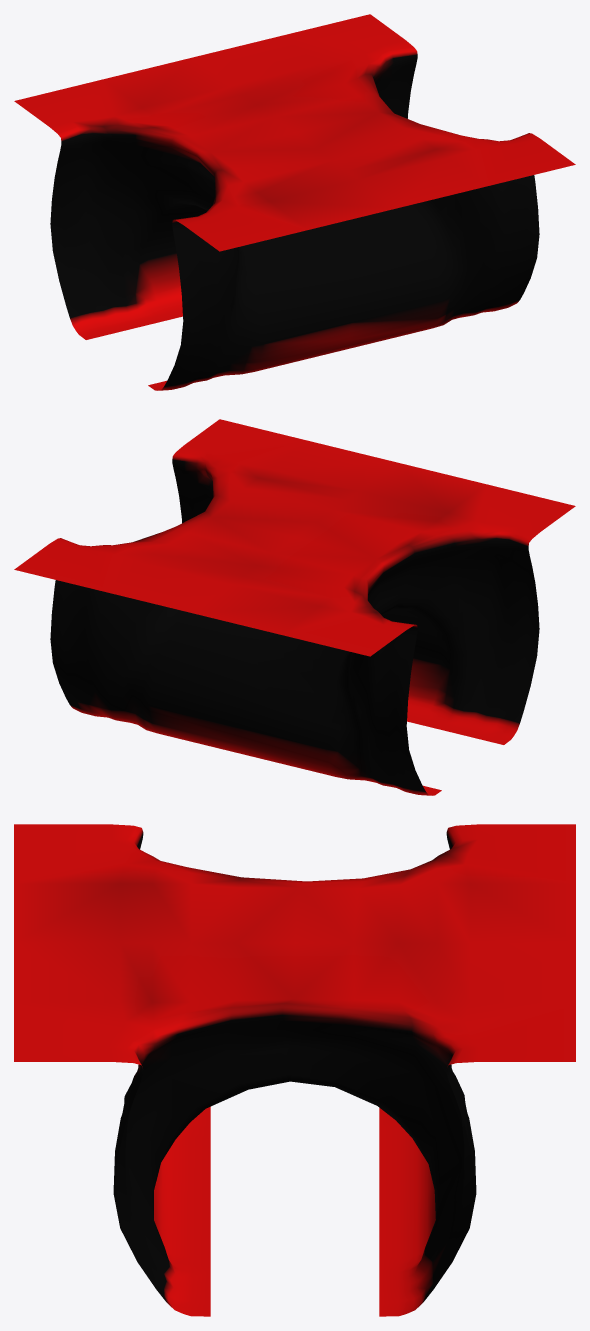
File: CrossingCliff03C 2M Background.fbx
3 views of the same model, one above another, from view 1: azimuth 30°, elevation 25°; view 2: azimuth 150°, elevation 25°; view 3: azimuth 270°, elevation 25° (orthographic). The views are drawn at different scales.
Visible parts, largest first — view 1: CrossingCliff03C 2M Background; view 2: CrossingCliff03C 2M Background; view 3: CrossingCliff03C 2M Background.
Boxes of the visible parts, x1,y1,x2,y2 form: CrossingCliff03C 2M Background: [14, 14, 575, 390]; CrossingCliff03C 2M Background: [14, 419, 575, 795]; CrossingCliff03C 2M Background: [14, 824, 575, 1316].
Bounding box in the file's own units: 4 × 2.01 × 4.
